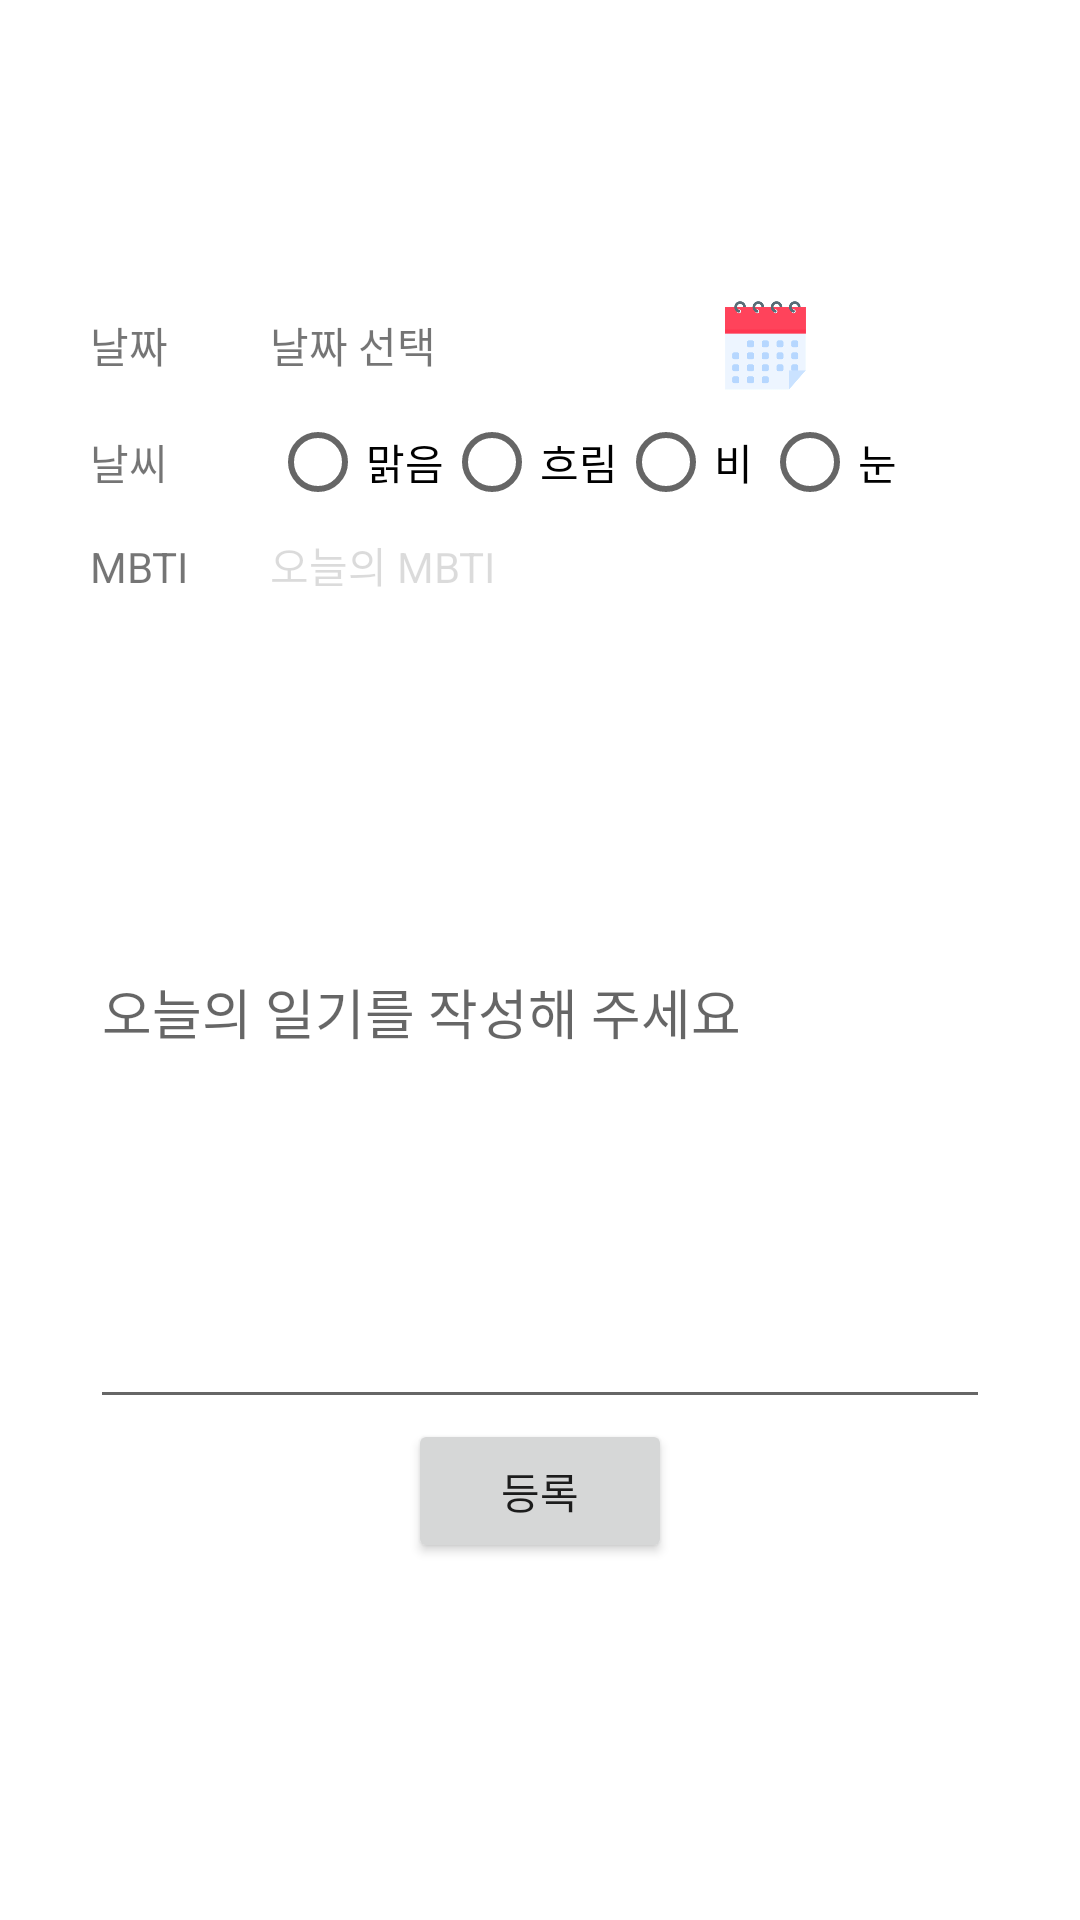

Icons on this 1080 x 1920 Android screen, each with its box as (x1, y1, x2, y2):
calendar: (725, 301, 806, 390)
